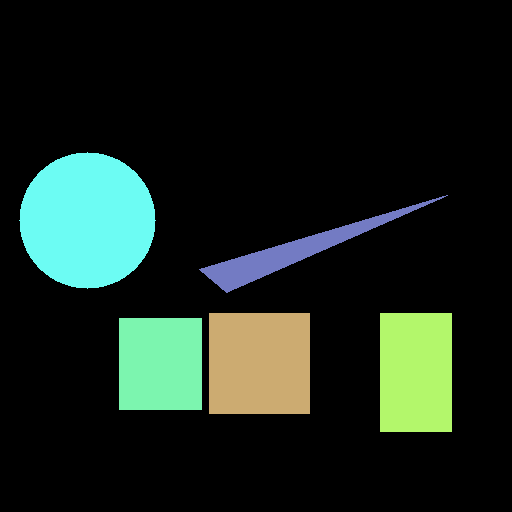circle: (19, 152, 155, 288)
rectangle: (380, 313, 451, 431)
square: (209, 313, 309, 413), (119, 318, 201, 409)
triangle: (199, 195, 447, 292)
